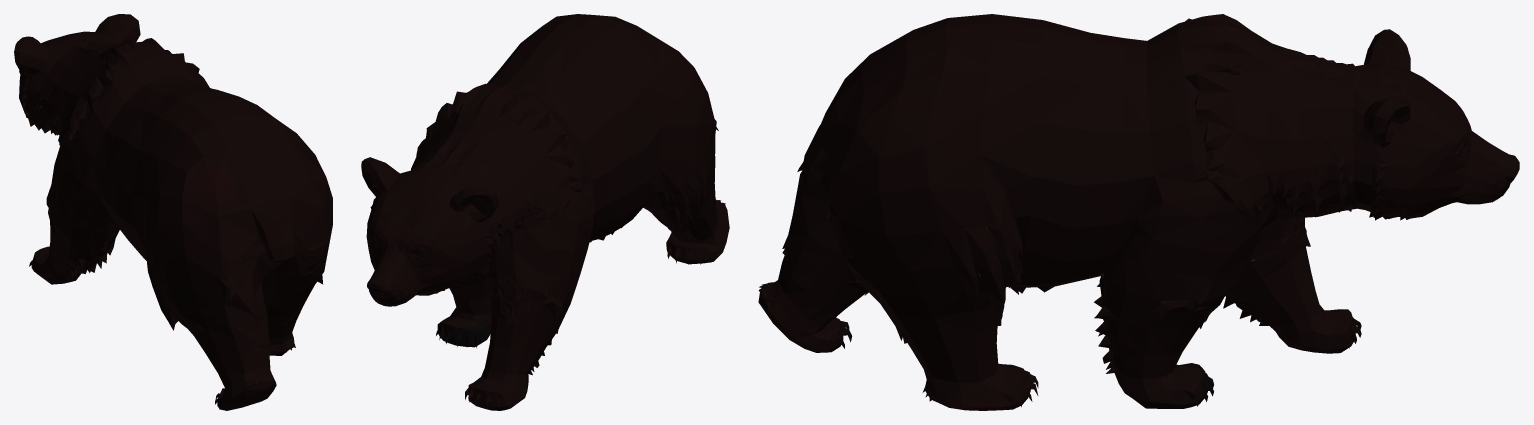
File: black+bear+3d+model.glb
3 renders of one model, left to right at view 1: azimuth 30°, elevation 25°; view 2: azimuth 150°, elevation 25°; view 3: azimuth 270°, elevation 25°, orthographic. The views are drawn at different scales.
Visible parts, largest first — view 1: tripo_node_49f41df8-8ecb-4b82-9932-2f89773e36b8; view 2: tripo_node_49f41df8-8ecb-4b82-9932-2f89773e36b8; view 3: tripo_node_49f41df8-8ecb-4b82-9932-2f89773e36b8.
Part boxes in pixels (x1,y1,x2,y2): tripo_node_49f41df8-8ecb-4b82-9932-2f89773e36b8: (14,14,332,410); tripo_node_49f41df8-8ecb-4b82-9932-2f89773e36b8: (361,14,729,410); tripo_node_49f41df8-8ecb-4b82-9932-2f89773e36b8: (758,14,1519,410).
Bounding box in the file's own units: 0.3613 × 0.502 × 0.998.
Materials: 1 (1 with a texture image).
